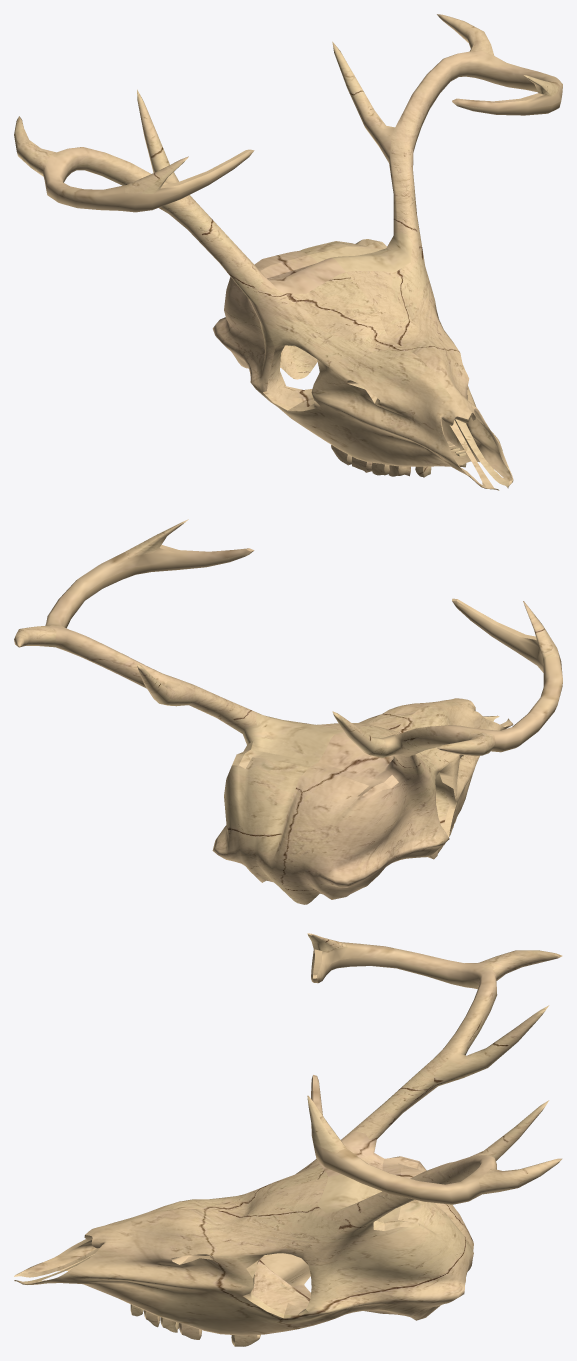
The model's file is Deer_Skull.fbx.
The picture shows the model from 3 angles, top to bottom: view 1: azimuth 30°, elevation 25°; view 2: azimuth 150°, elevation 25°; view 3: azimuth 270°, elevation 25°; orthographic projection.
Parts seen in each view (by area): view 1: Deer_Skull; view 2: Deer_Skull; view 3: Deer_Skull.
Part boxes in pixels (left/top/right/bottom): Deer_Skull: left=14, top=14, right=562, bottom=490; Deer_Skull: left=14, top=519, right=562, bottom=904; Deer_Skull: left=14, top=933, right=562, bottom=1346.
Size of the model in its own units: 249 by 153 by 245.
